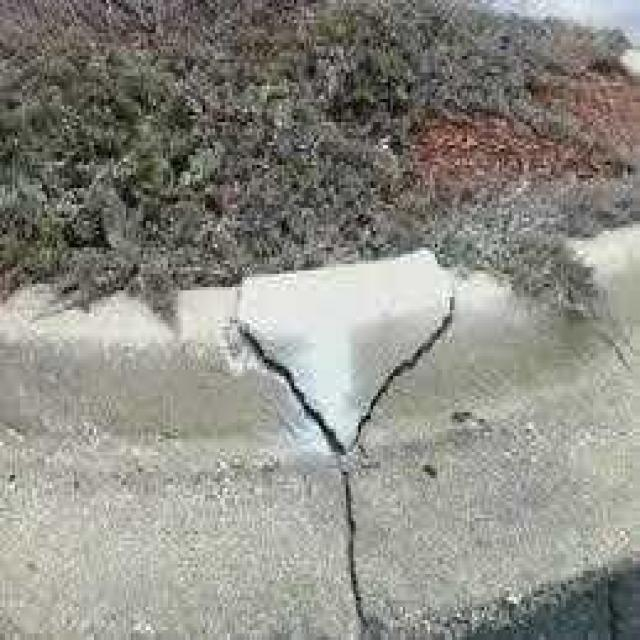curb: (5, 191, 636, 640)
